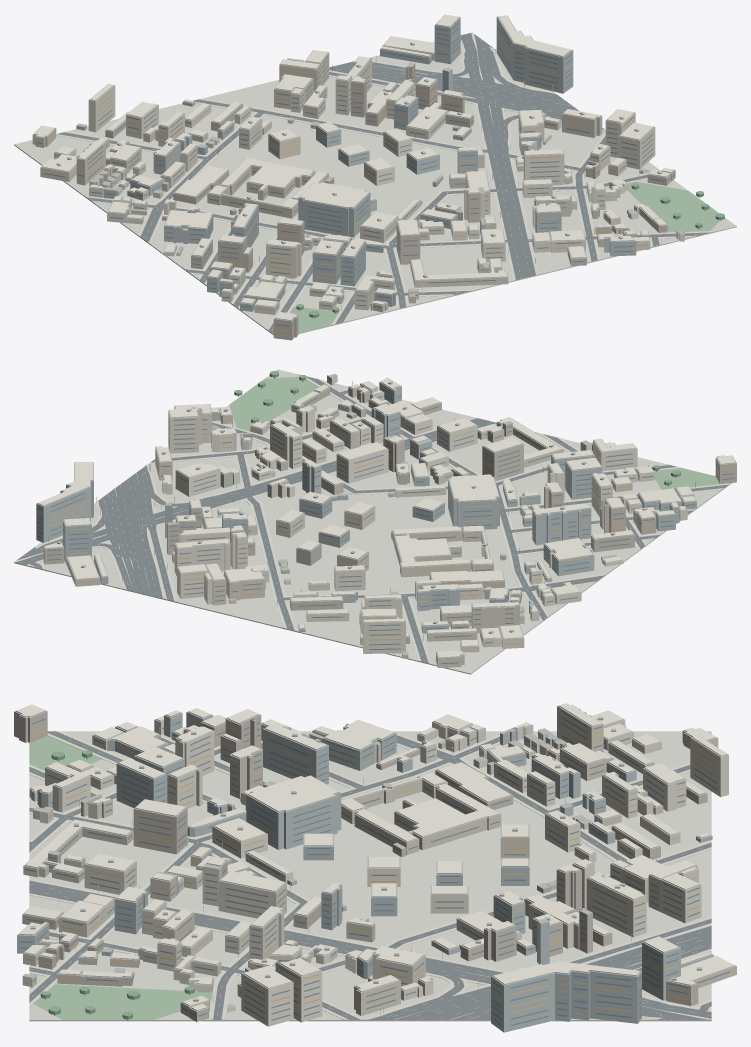
3 views of the same model, one above another, from view 1: azimuth 30°, elevation 25°; view 2: azimuth 150°, elevation 25°; view 3: azimuth 270°, elevation 25° (orthographic). The views are drawn at different scales.
Parts seen in each view (by area): view 1: city; view 2: city; view 3: city.
Part boxes in pixels (x1,y1,x2,y2): city: (14, 14, 736, 340); city: (14, 369, 736, 674); city: (14, 703, 736, 1032).
Size of the model in its own units: 537 by 39.85 by 530.
